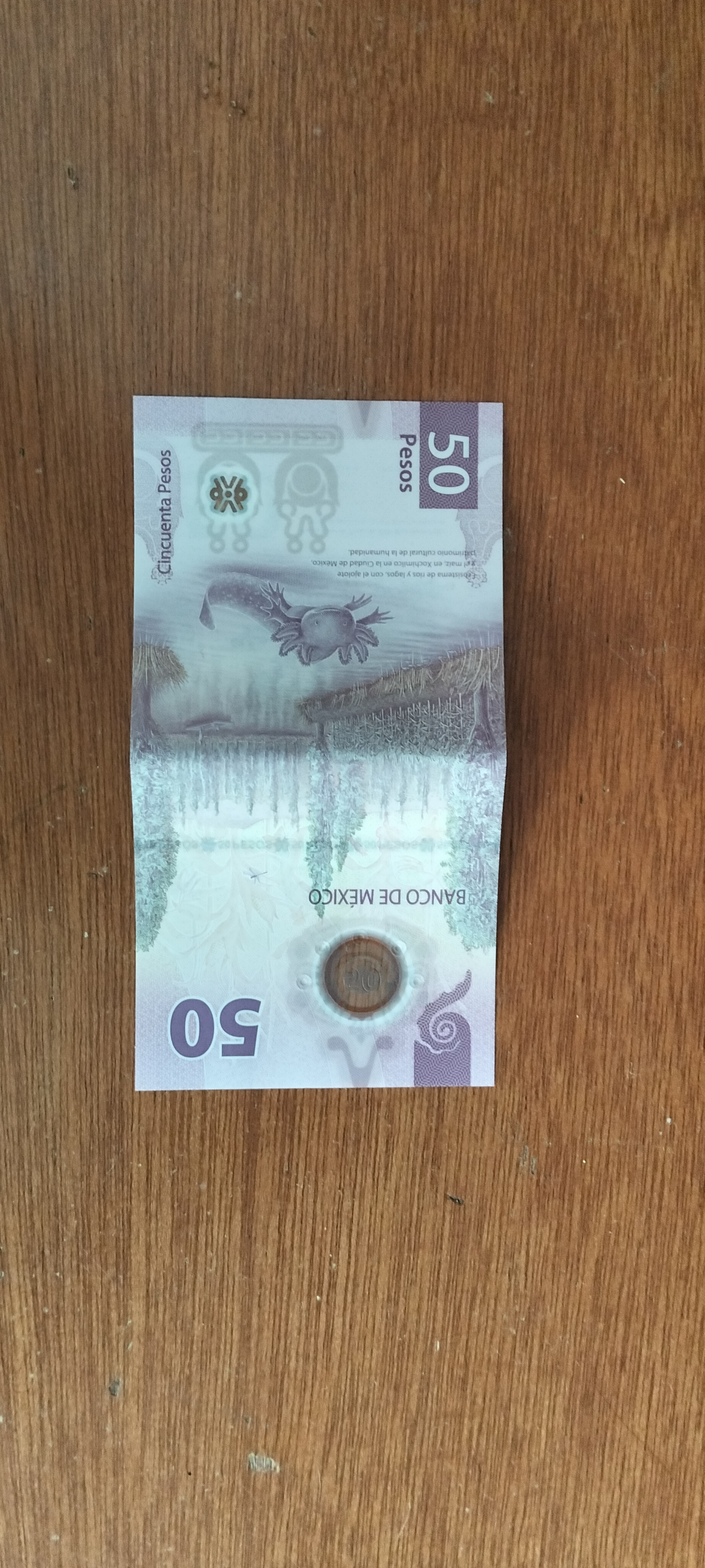billetes: (112, 368, 530, 1116)
